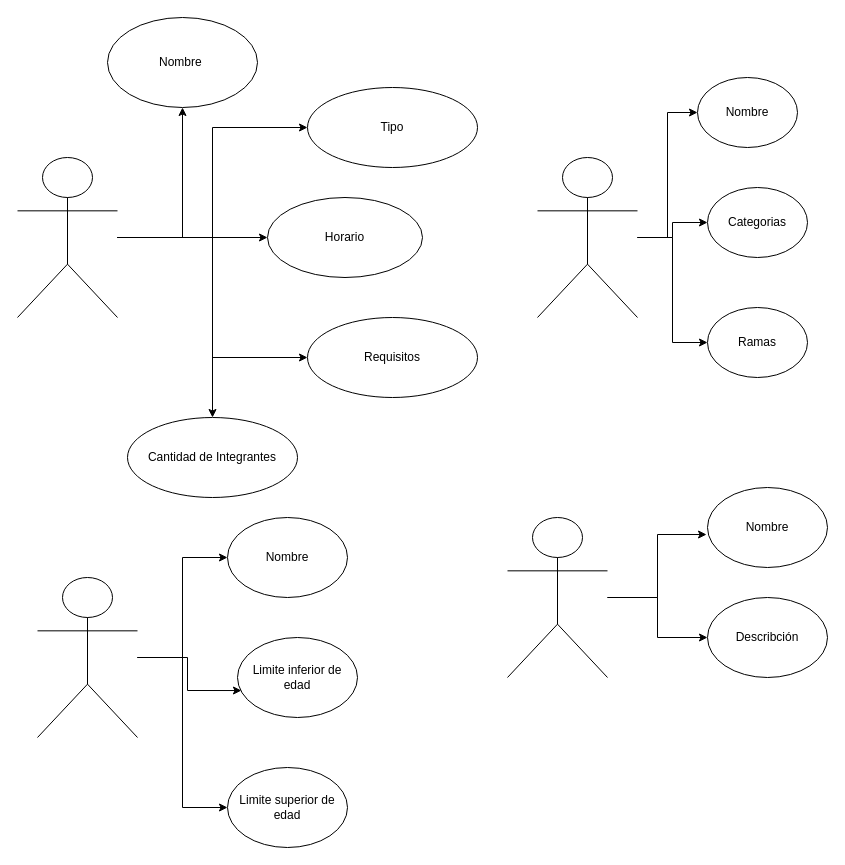
The diagram is 845 pixels wide and 865 high, and some of its shapes have lost their labels. The box of each missing label's shape, as (x1, y1, x2, y2) in pixels:
Categoria: (36, 576, 138, 738)
Disciplina: (536, 156, 638, 318)
Equipo: (16, 156, 118, 318)
Rama: (506, 516, 608, 678)
